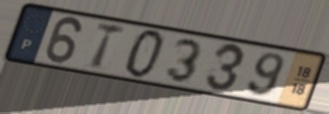0: (122, 28, 166, 80)
3: (203, 42, 246, 94), (164, 37, 206, 85)
6: (43, 15, 84, 65)
9: (243, 50, 286, 99)
T: (90, 20, 129, 72)
